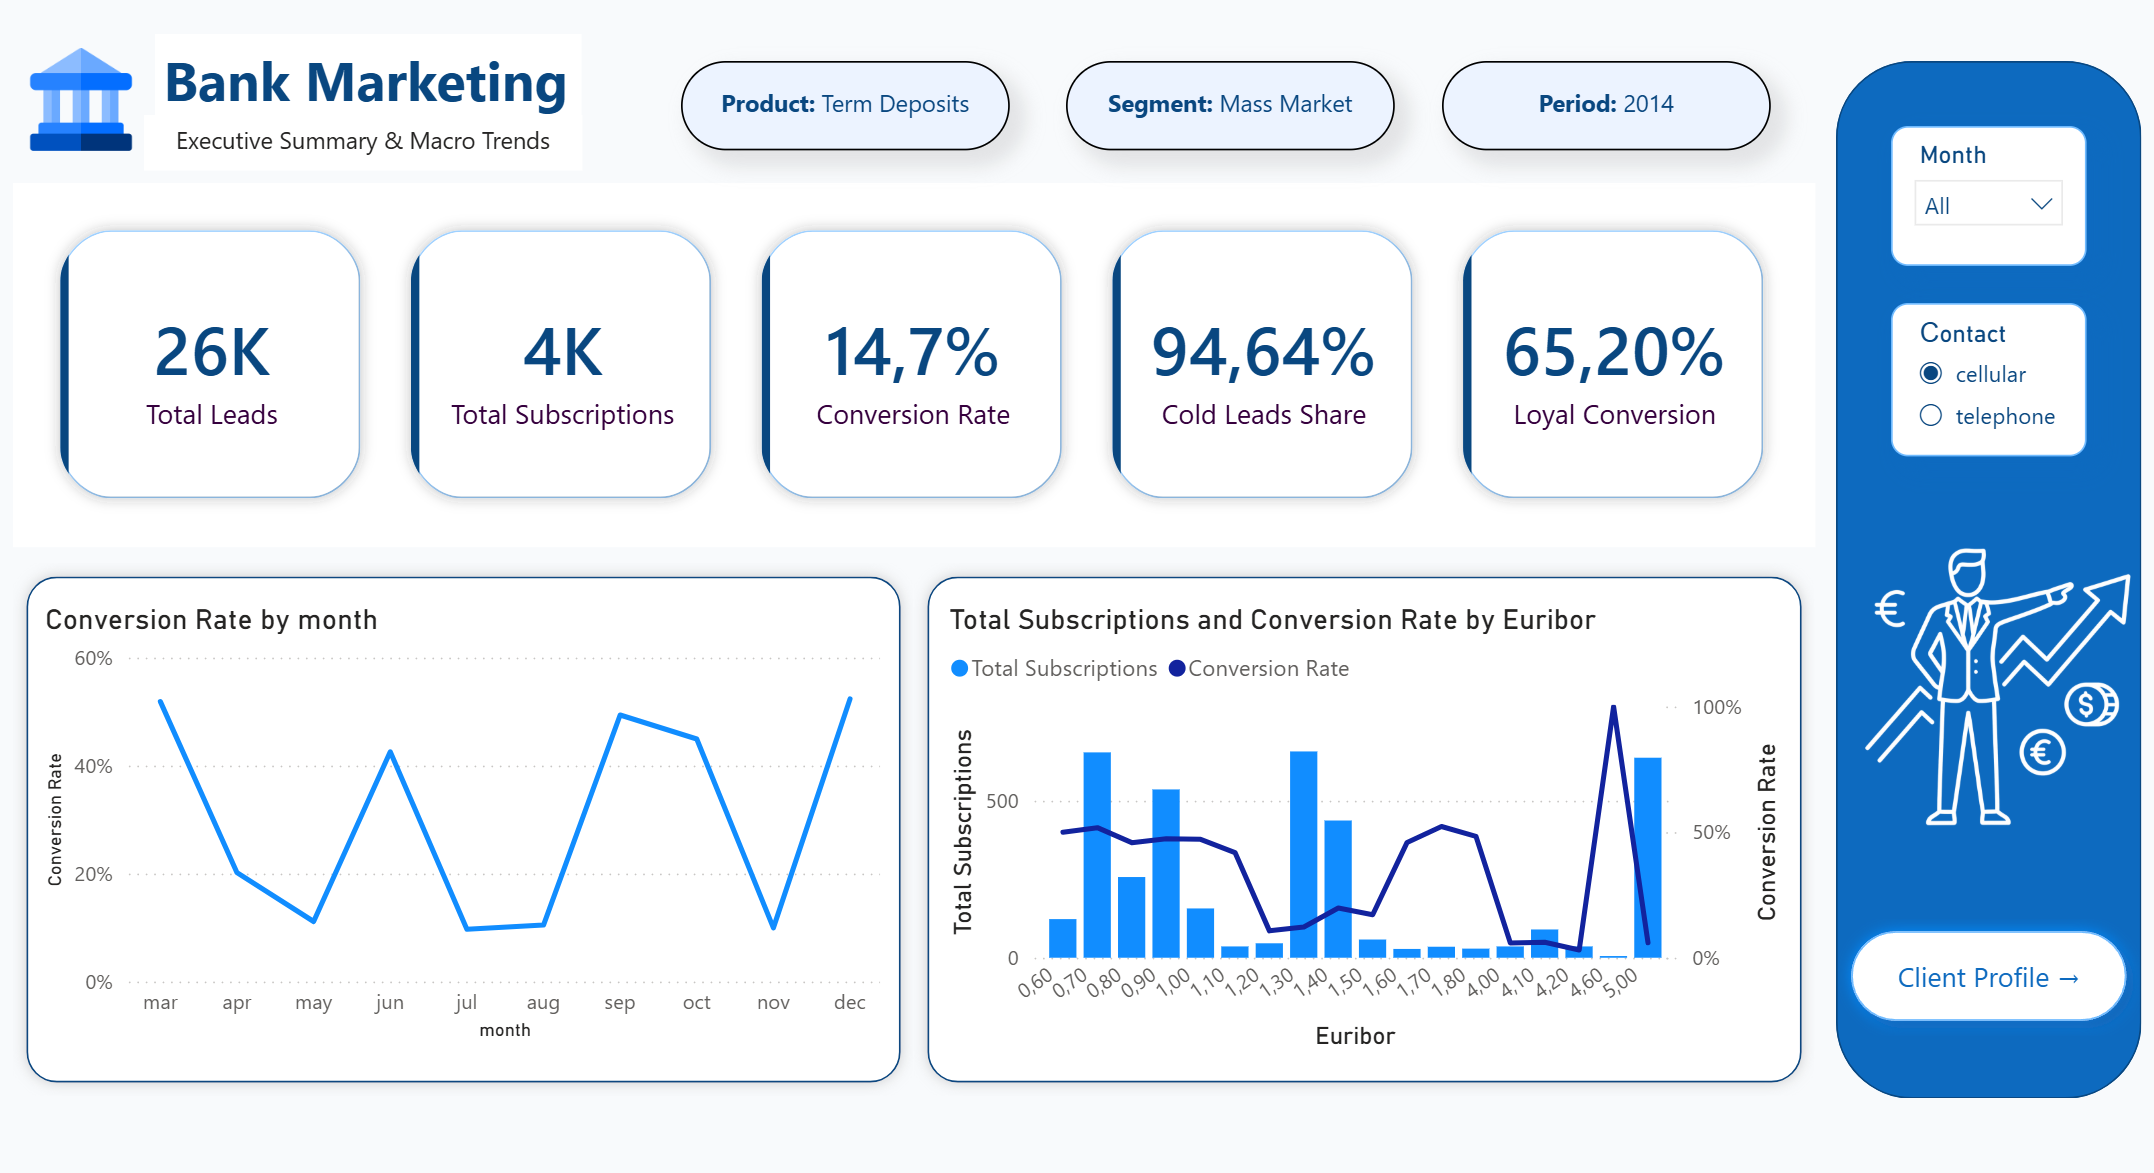

The page's visual inventory and layout, read from the dashboard file:
{"tool":"powerbi","page":{"name":"Overview","canvas":[1280,720],"ordinal":0},"visuals":[{"type":"shape","box":[958.1,228.2,76.1,73],"z":0},{"type":"shape","box":[1089.3,39,181.2,615.5],"z":1000},{"type":"shape","box":[8,337.1,534.4,316.1],"z":2000},{"type":"shape","box":[542.5,337.1,534.4,316.1],"z":3000},{"type":"cardVisual","fields":{"Data":["bank_marketing_bi_ready.Total Leads","bank_marketing_bi_ready.Total Subscriptions","bank_marketing_bi_ready.Conversion Rate","bank_marketing_bi_ready.Cold Leads Share","bank_marketing_bi_ready.Loyal Conversion"]},"box":[8,111.3,1068.9,215.9],"z":4000},{"type":"textbox","box":[92.8,22.9,253,55.1],"z":5000},{"type":"image","box":[4.3,31.5,88.5,60.6],"z":6000},{"type":"lineChart","title":"Conversion Rate by month","fields":{"Category":["bank_marketing_bi_ready.month"],"Y":["bank_marketing_bi_ready.Conversion Rate"]},"box":[22.3,360,505.4,264.1],"z":7000},{"type":"lineStackedColumnComboChart","fields":{"Y":["bank_marketing_bi_ready.Total Subscriptions"],"Y2":["bank_marketing_bi_ready.Conversion Rate"],"Category":["bank_marketing_bi_ready.Euribor_Rounded"]},"box":[558.6,360,501.6,270.3],"z":8000},{"type":"slicer","fields":{"Values":["bank_marketing_bi_ready.month"]},"box":[1122.1,77.9,116.3,82.9],"z":9000},{"type":"slicer","fields":{"Values":["bank_marketing_bi_ready.contact"]},"box":[1122.1,182.5,116.3,90.9],"z":10000},{"type":"textbox","box":[86,71.1,259.8,32.8],"z":11000},{"type":"image","box":[1083.1,295.1,193.6,225.2],"z":12000},{"type":"textbox","box":[404.5,39,194.8,53.2],"z":13000},{"type":"textbox","box":[632.8,39,194.8,53.2],"z":14000},{"type":"textbox","box":[856.1,39,194.8,53.2],"z":15000},{"type":"actionButton","box":[1089.3,546.2,181.2,71.1],"z":16000}]}

Visuals, with their boxes on the page's 1280x720 design canvas (x1, y1, x2, y2). These are canvas units, not pixel positions in the 2154x1173 screenshot, which may show the page scaled, cropped or inside an application window:
shape: l=958, t=228, r=1034, b=301
shape: l=1089, t=39, r=1270, b=654
shape: l=8, t=337, r=542, b=653
shape: l=542, t=337, r=1077, b=653
cardVisual - bank_marketing_bi_ready.Total Leads x bank_marketing_bi_ready.Total Subscriptions: l=8, t=111, r=1077, b=327
textbox: l=93, t=23, r=346, b=78
image: l=4, t=32, r=93, b=92
"Conversion Rate by month" lineChart: l=22, t=360, r=528, b=624
lineStackedColumnComboChart - bank_marketing_bi_ready.Total Subscriptions x bank_marketing_bi_ready.Conversion Rate: l=559, t=360, r=1060, b=630
slicer - bank_marketing_bi_ready.month: l=1122, t=78, r=1238, b=161
slicer - bank_marketing_bi_ready.contact: l=1122, t=182, r=1238, b=273
textbox: l=86, t=71, r=346, b=104
image: l=1083, t=295, r=1277, b=520
textbox: l=404, t=39, r=599, b=92
textbox: l=633, t=39, r=828, b=92
textbox: l=856, t=39, r=1051, b=92
actionButton: l=1089, t=546, r=1270, b=617
